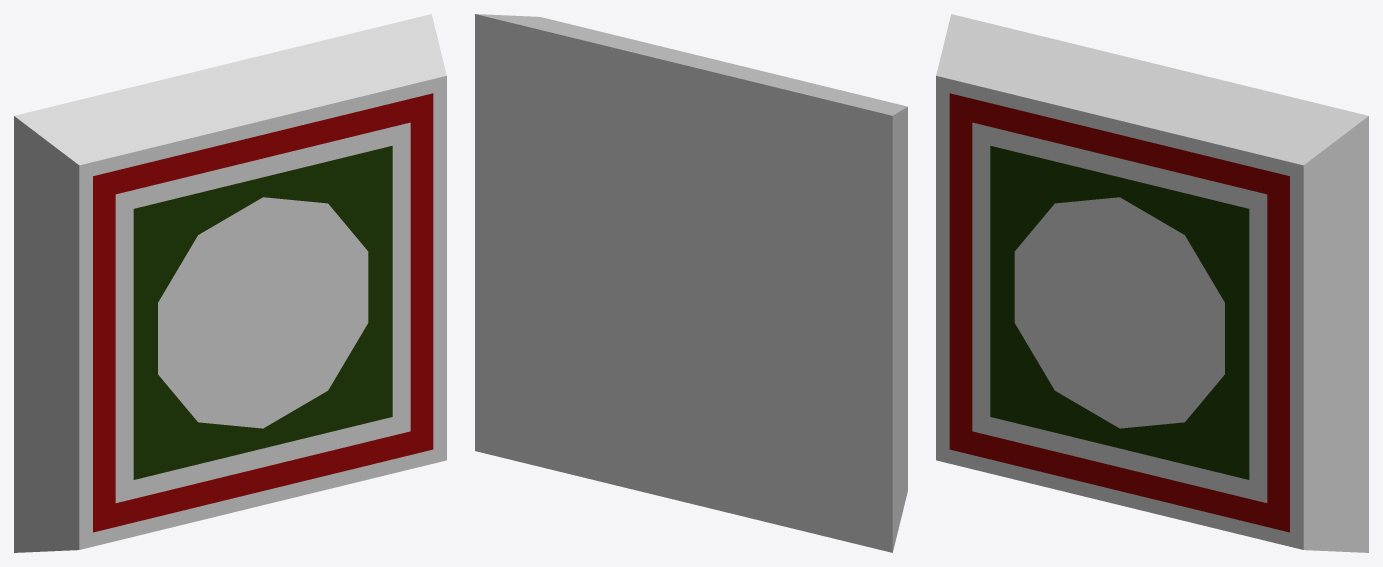
File: SciFi_Modular_Semiotic_Galley_01.fbx
3 renders of one model, left to right at view 1: azimuth 30°, elevation 25°; view 2: azimuth 150°, elevation 25°; view 3: azimuth 330°, elevation 25°, orthographic.
Visible parts, largest first — view 1: SciFi_Modular_Semiotic_Galley_01; view 2: SciFi_Modular_Semiotic_Galley_01; view 3: SciFi_Modular_Semiotic_Galley_01.
Boxes of the visible parts, x1=… form: SciFi_Modular_Semiotic_Galley_01: x1=14, y1=14, x2=446, y2=552; SciFi_Modular_Semiotic_Galley_01: x1=475, y1=14, x2=907, y2=552; SciFi_Modular_Semiotic_Galley_01: x1=936, y1=14, x2=1368, y2=552.
Size of the model in its own units: 21.12 by 21.12 by 3.52.
